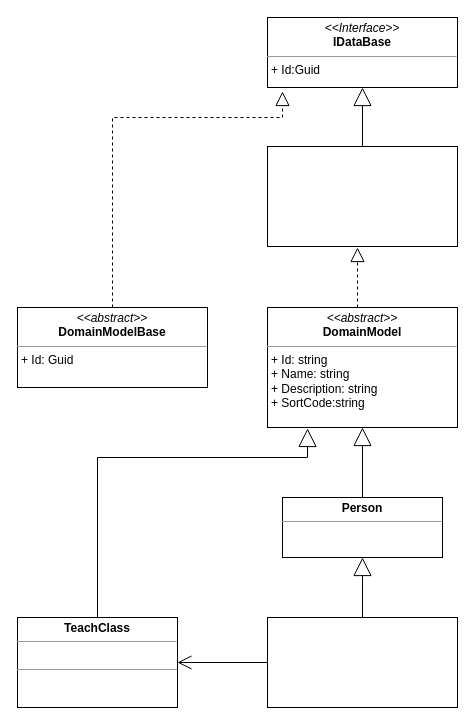
Image size: 475x725. Some labels were removed from this diagram. Each missing label, with the centre of its shape:
<<Interface>> IData + Name: string + Description: string + SortCode: string: the point at 362,196
Student + BirthDay: DateTime + Gender: bool + Province: string: the point at 362,662
